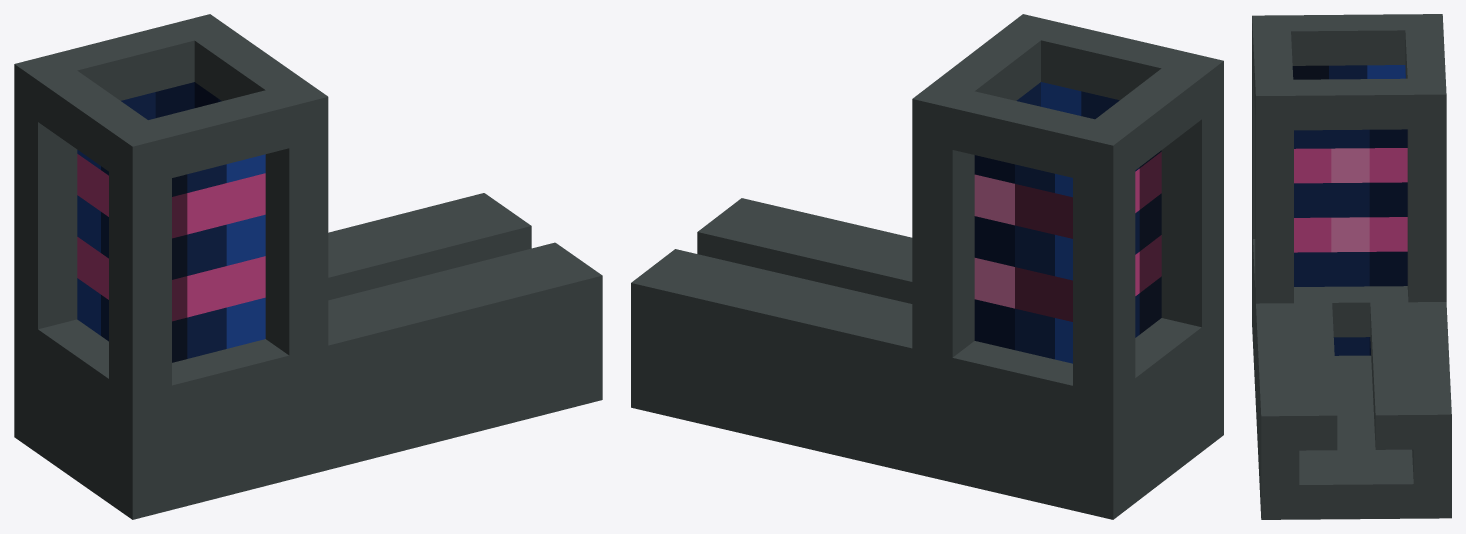
File: canon_head.fbx
3 views of the same model, side by side, from view 1: azimuth 30°, elevation 25°; view 2: azimuth 150°, elevation 25°; view 3: azimuth 270°, elevation 25° (orthographic). The views are drawn at different scales.
Parts seen in each view (by area): view 1: polySurface4; view 2: polySurface4; view 3: polySurface4.
Boxes of the visible parts, x1,y1,x2,y2 form: polySurface4: (14, 14, 602, 519); polySurface4: (631, 14, 1223, 519); polySurface4: (1252, 14, 1451, 519).
Size of the model in its own units: 75.61 by 56.25 by 32.74.
